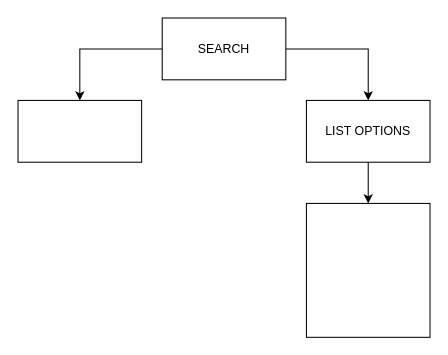
Image size: 448x355. Some labels were removed from this diagram. The centre of each missing label's shape, as x and y in pixels:
"ALBUMS ARTISTS FOLDERS GENERES YEARS PLAYLISTS ALL SONGS" goes at [367,269].
"SEARCH SPACE" goes at [79,130].
